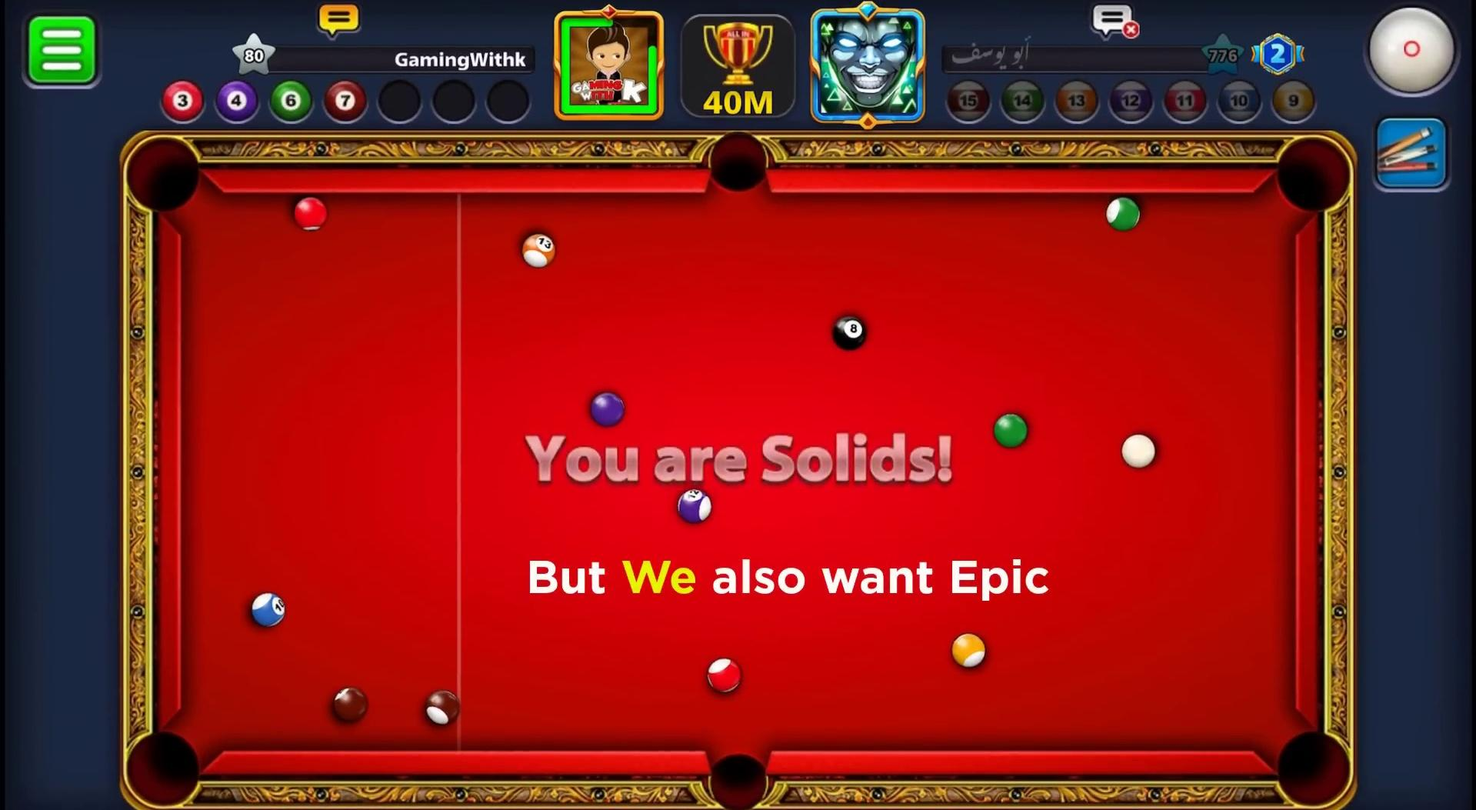Ball: (509, 224, 567, 275), (946, 630, 999, 677), (281, 192, 335, 236), (589, 386, 631, 440), (1101, 191, 1148, 237), (327, 682, 374, 726), (827, 311, 872, 356), (421, 682, 461, 730), (675, 484, 716, 527), (245, 590, 289, 630), (992, 411, 1031, 453), (710, 649, 739, 697)
Hole: (1266, 727, 1354, 810), (1278, 133, 1356, 221), (123, 729, 205, 805), (122, 136, 200, 214), (702, 132, 772, 197), (701, 752, 774, 810)
Play_Area: (185, 193, 1295, 748)
Spin: (1366, 4, 1460, 103)
White: (1120, 432, 1157, 469)
